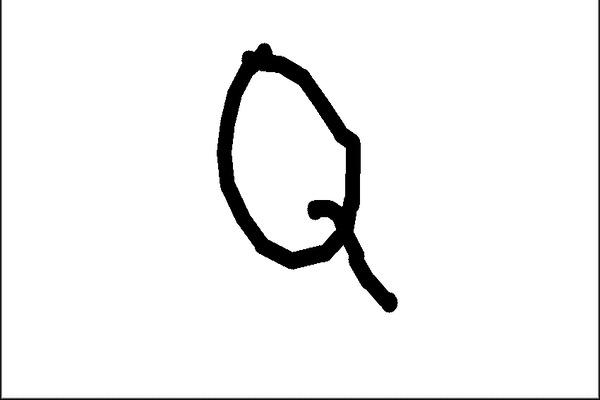Q: (203, 35, 402, 318)
